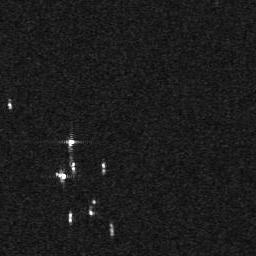ship: (55, 171, 67, 180), (66, 139, 77, 147), (68, 211, 73, 224), (71, 161, 76, 173), (7, 101, 13, 110), (102, 160, 106, 173), (88, 208, 94, 216)
